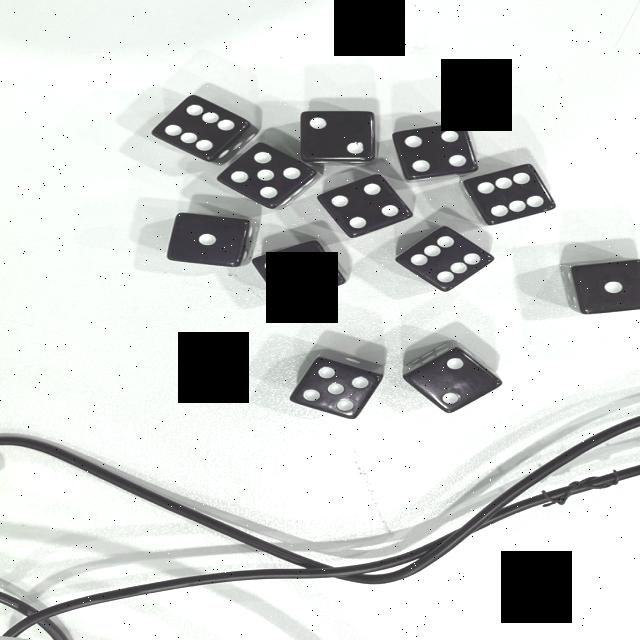DICE1: (572, 266, 640, 314), (168, 220, 241, 262)
DICE2: (413, 351, 498, 415), (253, 242, 342, 302), (302, 109, 374, 161)
DICE4: (391, 124, 478, 181), (322, 180, 404, 240)
DICE5: (284, 360, 382, 420), (218, 148, 309, 210)
DICE6: (153, 98, 239, 158), (402, 233, 492, 290), (471, 170, 549, 226)
